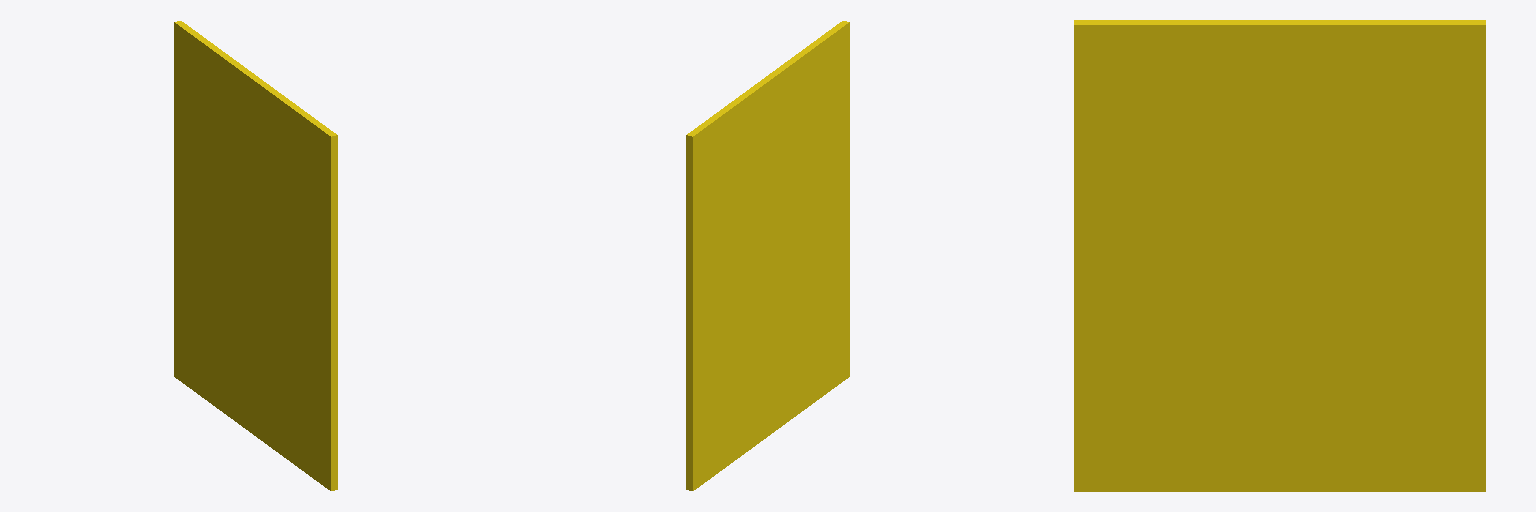
robot.urdf — board_yellow:
<?xml version="1.0"?>
<robot name="board_yellow">
  <material name="yellow">
    <color rgba="0.950 0.850 0.120 1.000"/>
  </material>

  <link name="base_link">
    <inertial>
      <mass value="1.0"/>
      <origin xyz="0 0 0.5" rpy="0 0 0"/>
      <inertia ixx="2.17" ixy="0" ixz="0" iyy="0.083" iyz="0" izz="2.08"/>
    </inertial>

    <visual>
      <origin xyz="0 0 0.5" rpy="0 0 0"/>
      <geometry>
        <box size="0.02 0.8 1.0"/>
      </geometry>
      <material name="yellow"/>
    </visual>

    <collision>
      <origin xyz="0 0 0.5" rpy="0 0 0"/>
      <geometry>
        <box size="0.02 0.8 1.0"/>
      </geometry>
    </collision>
  </link>
</robot>

--- What the picture shows (computed from the rendered views, not written in the file) ---
3 views of the same robot in one strip: view 1: azimuth 30°, elevation 25°; view 2: azimuth 150°, elevation 25°; view 3: azimuth 270°, elevation 25° (orthographic).
Robot: board_yellow — 1 links, 0 joints (none); root link base_link; default pose: every joint at zero.
Visible links, largest first — view 1: base_link; view 2: base_link; view 3: base_link.
Link boxes in pixels (<box>): base_link: <box>174,21,337,490</box>; base_link: <box>686,21,849,490</box>; base_link: <box>1074,20,1485,491</box>.
Size in the robot's own frame: 0.02 by 0.8 by 1 metres.
Geometry: primitives only (box / cylinder / sphere), no mesh files.
